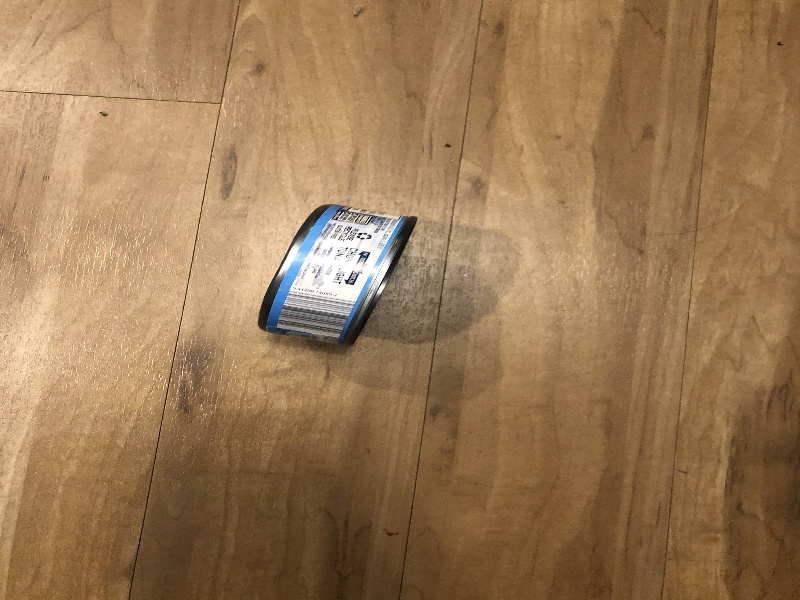metal: (251, 197, 425, 356)
